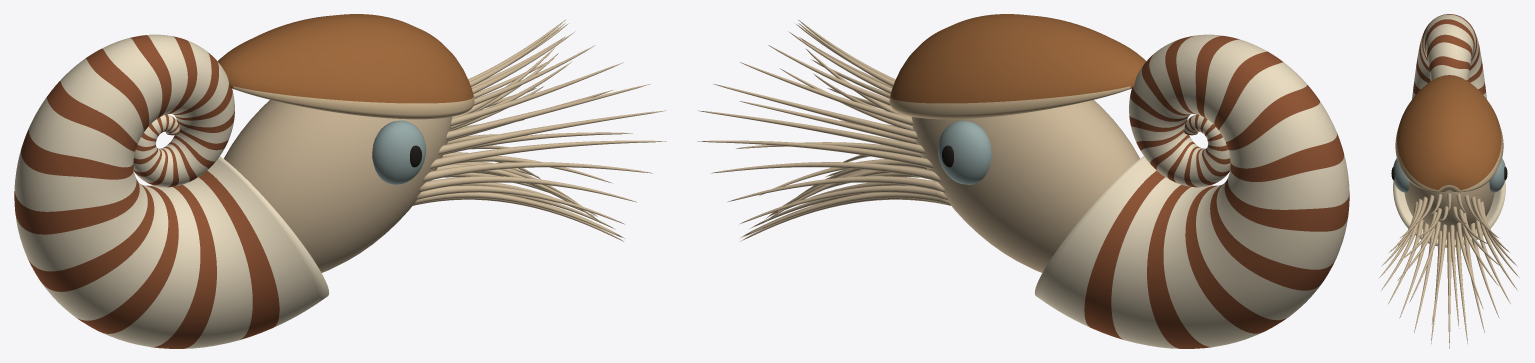
3 renders of one model, left to right at view 1: azimuth 30°, elevation 25°; view 2: azimuth 150°, elevation 25°; view 3: azimuth 270°, elevation 25°, orthographic. The views are drawn at different scales.
Visible parts, largest first — view 1: Closed_planispiral_shell_with_mouth_rim_and_recess, Closed_aperture_mantle_body, Broad_sloping_closed_hood_with_pale_edge, Left_closed_eye, Tentacle_0_11_closed_root_and_tip, Tentacle_0_12_closed_root_and_tip, Tentacle_0_10_closed_root_and_tip, Tentacle_0_13_closed_root_and_tip, Tentacle_0_14_closed_root_and_tip, Tentacle_0_09_closed_root_and_tip, Tentacle_0_15_closed_root_and_tip, Tentacle_0_08_closed_root_and_tip (+4 smaller); view 2: Closed_planispiral_shell_with_mouth_rim_and_recess, Closed_aperture_mantle_body, Broad_sloping_closed_hood_with_pale_edge, Right_closed_eye, Tentacle_0_01_closed_root_and_tip, Tentacle_0_00_closed_root_and_tip, Tentacle_0_02_closed_root_and_tip, Tentacle_0_23_closed_root_and_tip, Tentacle_0_22_closed_root_and_tip, Tentacle_0_03_closed_root_and_tip, Tentacle_0_21_closed_root_and_tip, Tentacle_0_04_closed_root_and_tip (+5 smaller); view 3: Broad_sloping_closed_hood_with_pale_edge, Closed_planispiral_shell_with_mouth_rim_and_recess, Closed_aperture_mantle_body, Tentacle_0_18_closed_root_and_tip, Tentacle_0_19_closed_root_and_tip, Tentacle_1_09_closed_root_and_tip, Left_closed_eye, Right_closed_eye, Tentacle_1_08_closed_root_and_tip, Tentacle_1_10_closed_root_and_tip, Tentacle_0_20_closed_root_and_tip, Tentacle_0_22_closed_root_and_tip (+24 smaller).
Part boxes in pixels (x1,y1,x2,y2): Closed_planispiral_shell_with_mouth_rim_and_recess: [14, 34, 328, 348]; Closed_aperture_mantle_body: [224, 100, 452, 272]; Broad_sloping_closed_hood_with_pale_edge: [217, 14, 474, 119]; Left_closed_eye: [372, 120, 426, 184]; Tentacle_0_11_closed_root_and_tip: [430, 140, 666, 168]; Tentacle_0_12_closed_root_and_tip: [423, 162, 652, 181]; Tentacle_0_10_closed_root_and_tip: [438, 110, 665, 154]; Tentacle_0_13_closed_root_and_tip: [419, 176, 636, 202]; Tentacle_0_14_closed_root_and_tip: [416, 185, 624, 224]; Tentacle_0_09_closed_root_and_tip: [446, 84, 650, 139]; Tentacle_0_15_closed_root_and_tip: [413, 192, 621, 237]; Tentacle_0_08_closed_root_and_tip: [451, 62, 623, 126]; Closed_planispiral_shell_with_mouth_rim_and_recess: [1035, 34, 1349, 348]; Closed_aperture_mantle_body: [911, 100, 1139, 272]; Broad_sloping_closed_hood_with_pale_edge: [889, 14, 1146, 119]; Right_closed_eye: [937, 120, 991, 184]; Tentacle_0_01_closed_root_and_tip: [697, 140, 933, 168]; Tentacle_0_00_closed_root_and_tip: [711, 162, 940, 181]; Tentacle_0_02_closed_root_and_tip: [698, 110, 925, 154]; Tentacle_0_23_closed_root_and_tip: [727, 176, 945, 202]; Tentacle_0_22_closed_root_and_tip: [739, 185, 947, 224]; Tentacle_0_03_closed_root_and_tip: [713, 84, 917, 139]; Tentacle_0_21_closed_root_and_tip: [742, 192, 950, 237]; Tentacle_0_04_closed_root_and_tip: [740, 62, 912, 126]; Broad_sloping_closed_hood_with_pale_edge: [1395, 75, 1503, 192]; Closed_planispiral_shell_with_mouth_rim_and_recess: [1393, 14, 1505, 247]; Closed_aperture_mantle_body: [1404, 181, 1494, 239]; Tentacle_0_18_closed_root_and_tip: [1446, 232, 1451, 348]; Tentacle_0_19_closed_root_and_tip: [1455, 231, 1467, 343]; Tentacle_1_09_closed_root_and_tip: [1449, 224, 1459, 328]; Left_closed_eye: [1393, 158, 1409, 192]; Right_closed_eye: [1489, 158, 1505, 192]; Tentacle_1_08_closed_root_and_tip: [1431, 224, 1447, 324]; Tentacle_1_10_closed_root_and_tip: [1456, 222, 1483, 308]; Tentacle_0_20_closed_root_and_tip: [1463, 231, 1484, 332]; Tentacle_0_22_closed_root_and_tip: [1475, 219, 1510, 303].
Bounding box in the file's own units: 0.3459 × 0.1749 × 0.118.
